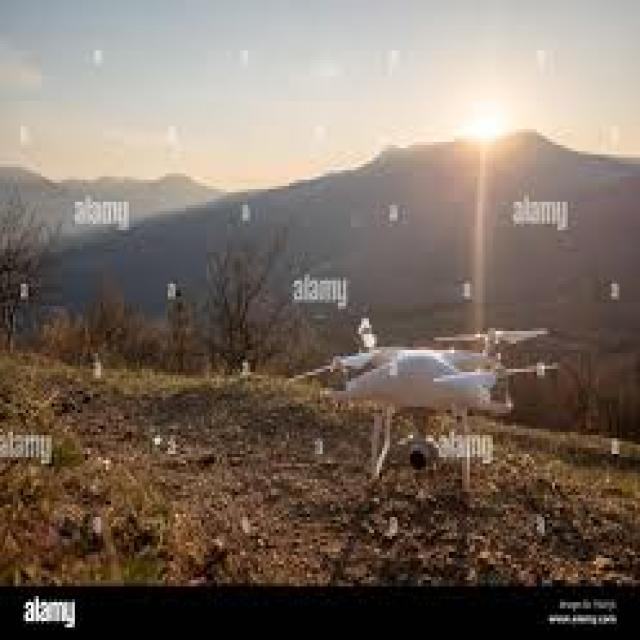drone: (302, 312, 548, 495)
